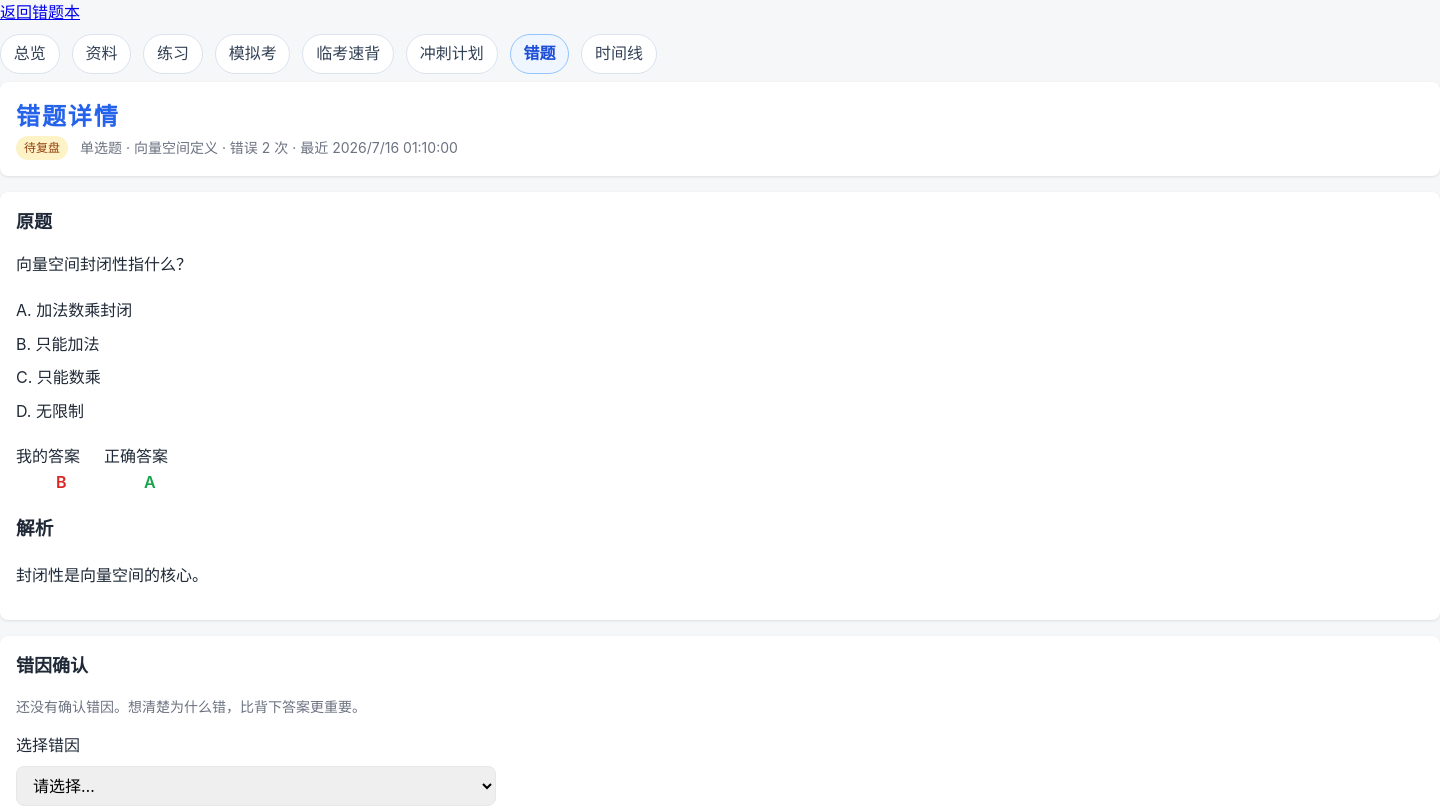
Scenario: S4 错题本前端交互 › 错题详情展示原题事实并可确认错因
expect the heading with class "workbench-eyebrow" reads "错题详情": met, box x1=16 y1=102 x2=120 y2=131
Select "概念不清" in the dropdown with id "causeCategory": (256, 786) x1=16 y1=766 x2=496 y2=806
(page scrolled)
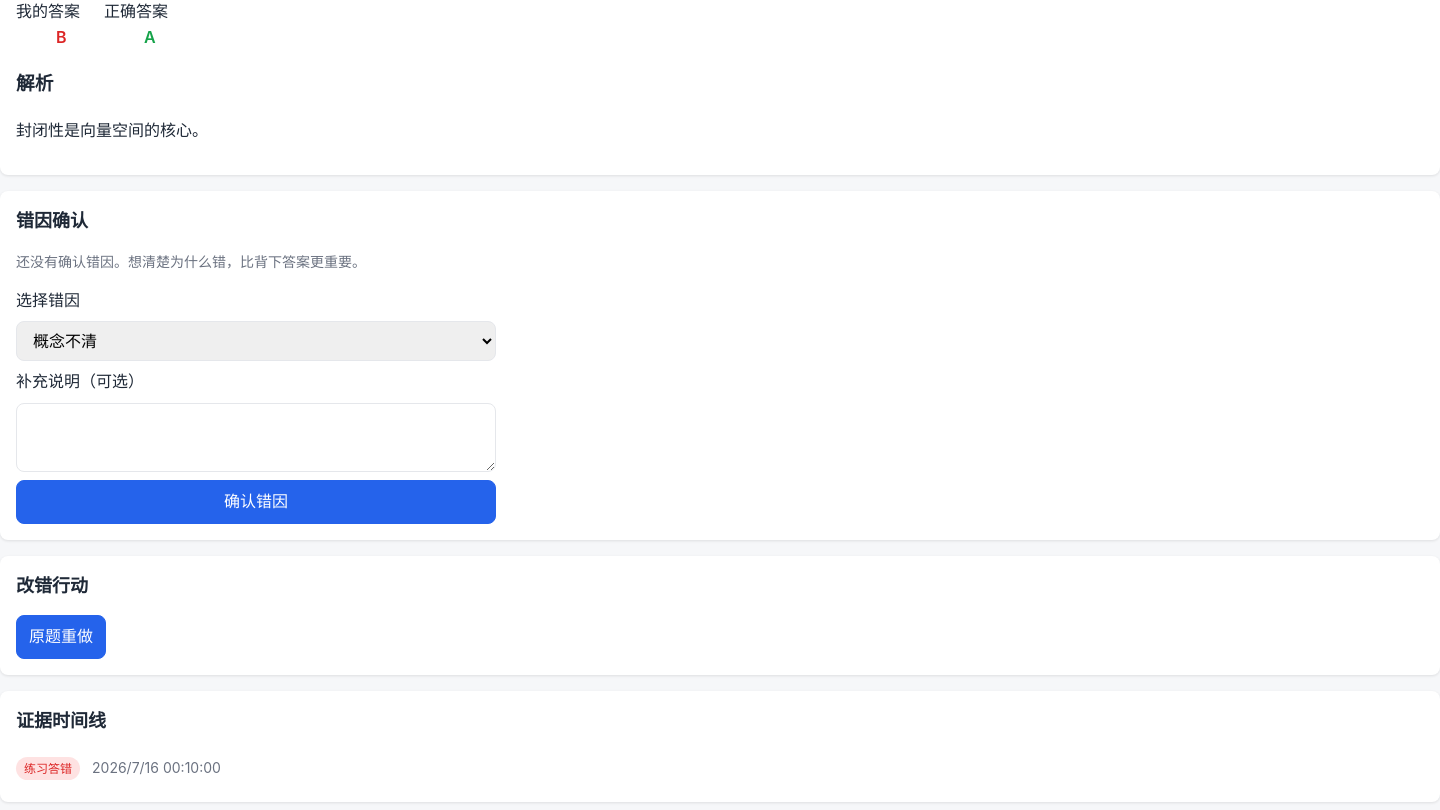
Submit the form with class "mistake-cause-form", box x1=16 y1=288 x2=496 y2=524
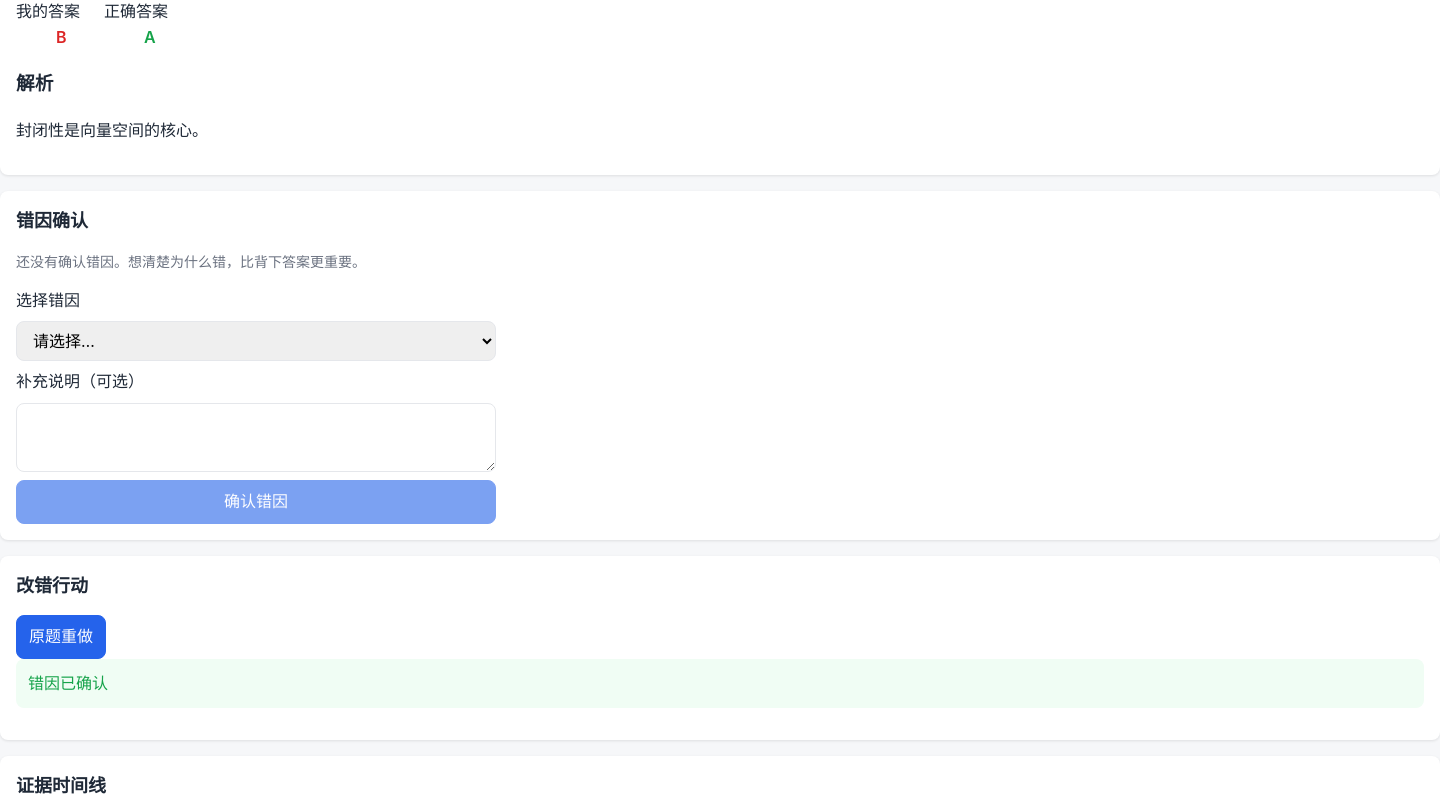
expect the text "错因已确认" is shown: met, box x1=16 y1=659 x2=1424 y2=708
